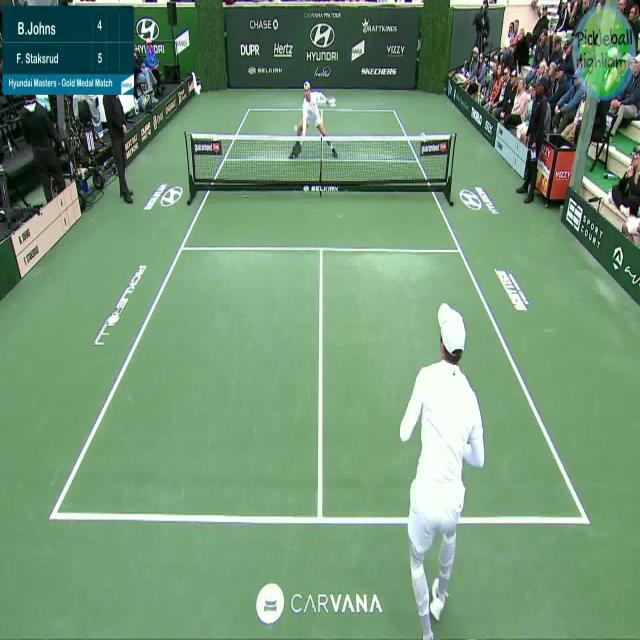ball: (290, 120, 303, 136)
